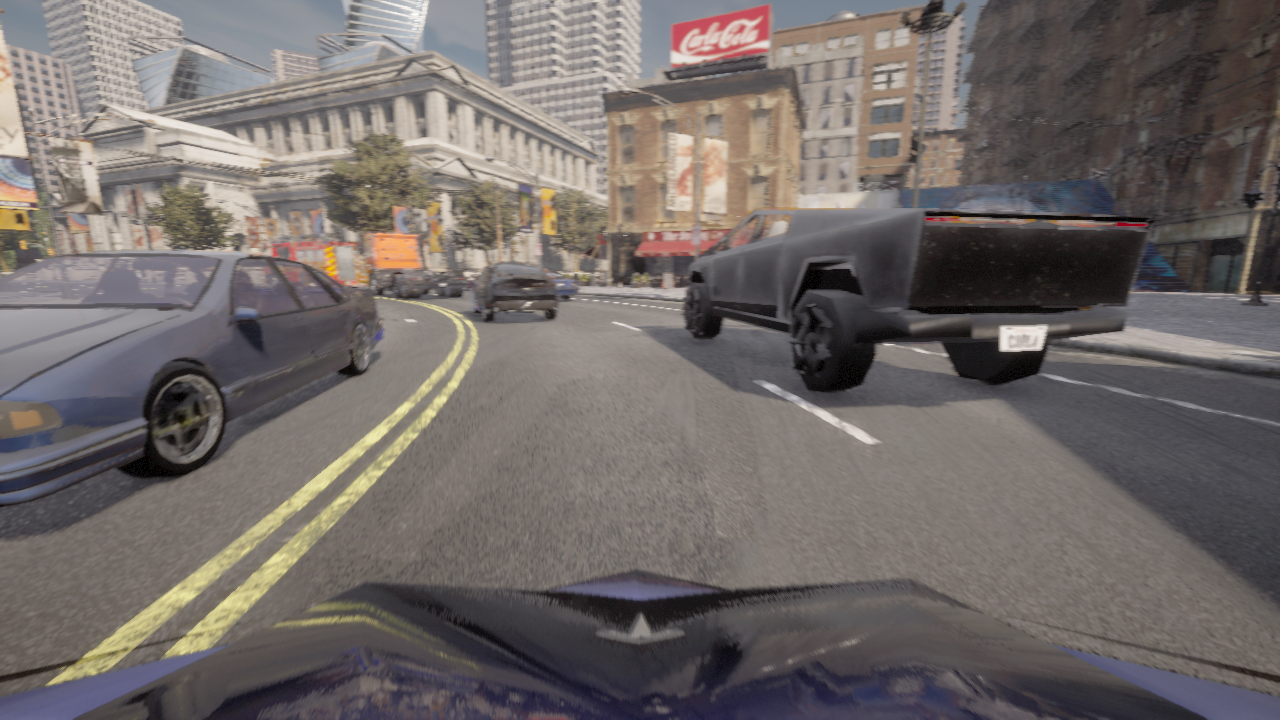cyclist: (0, 569, 1279, 719), (0, 250, 383, 507), (682, 209, 1153, 392), (359, 233, 468, 299), (259, 234, 366, 289), (466, 262, 558, 322), (544, 270, 577, 300), (465, 271, 481, 290), (362, 286, 392, 290)
